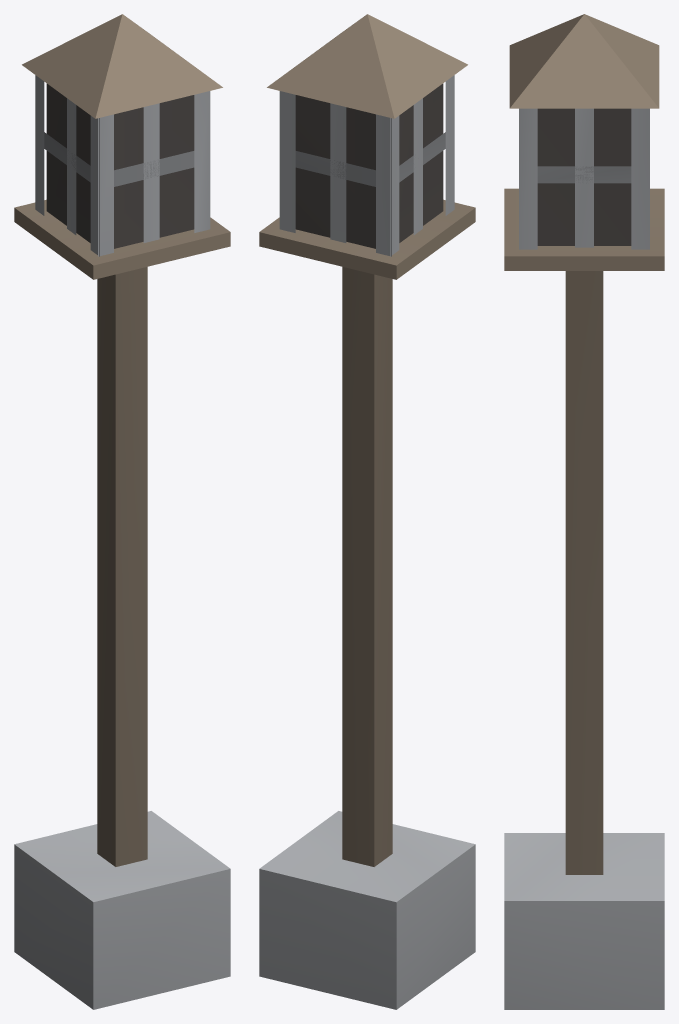
The model's file is sg_lamp.glb.
3 views of the same model, side by side, from view 1: azimuth 30°, elevation 25°; view 2: azimuth 150°, elevation 25°; view 3: azimuth 270°, elevation 25° (orthographic).
Parts seen in each view (by area): view 1: sg_lamp_SG_Joinery, sg_lamp_SG_Stone, sg_lamp_SG_Glow; view 2: sg_lamp_SG_Joinery, sg_lamp_SG_Stone, sg_lamp_SG_Glow; view 3: sg_lamp_SG_Joinery, sg_lamp_SG_Stone, sg_lamp_SG_Glow.
Boxes of the visible parts, bbox=[...] form: sg_lamp_SG_Joinery: bbox=[14, 14, 230, 866]; sg_lamp_SG_Stone: bbox=[14, 75, 230, 1009]; sg_lamp_SG_Glow: bbox=[46, 83, 194, 248]; sg_lamp_SG_Joinery: bbox=[259, 14, 475, 866]; sg_lamp_SG_Stone: bbox=[259, 75, 475, 1009]; sg_lamp_SG_Glow: bbox=[295, 83, 443, 248]; sg_lamp_SG_Joinery: bbox=[504, 14, 664, 874]; sg_lamp_SG_Stone: bbox=[504, 108, 664, 1009]; sg_lamp_SG_Glow: bbox=[537, 108, 631, 245].
Size of the model in its own units: 0.6 by 3.97 by 0.6.
